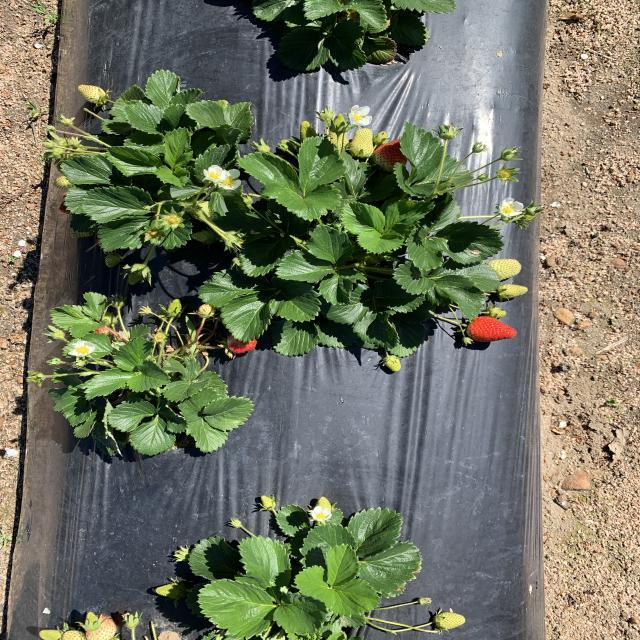unripe: (374, 135, 426, 175), (462, 310, 520, 345), (223, 331, 260, 355)
